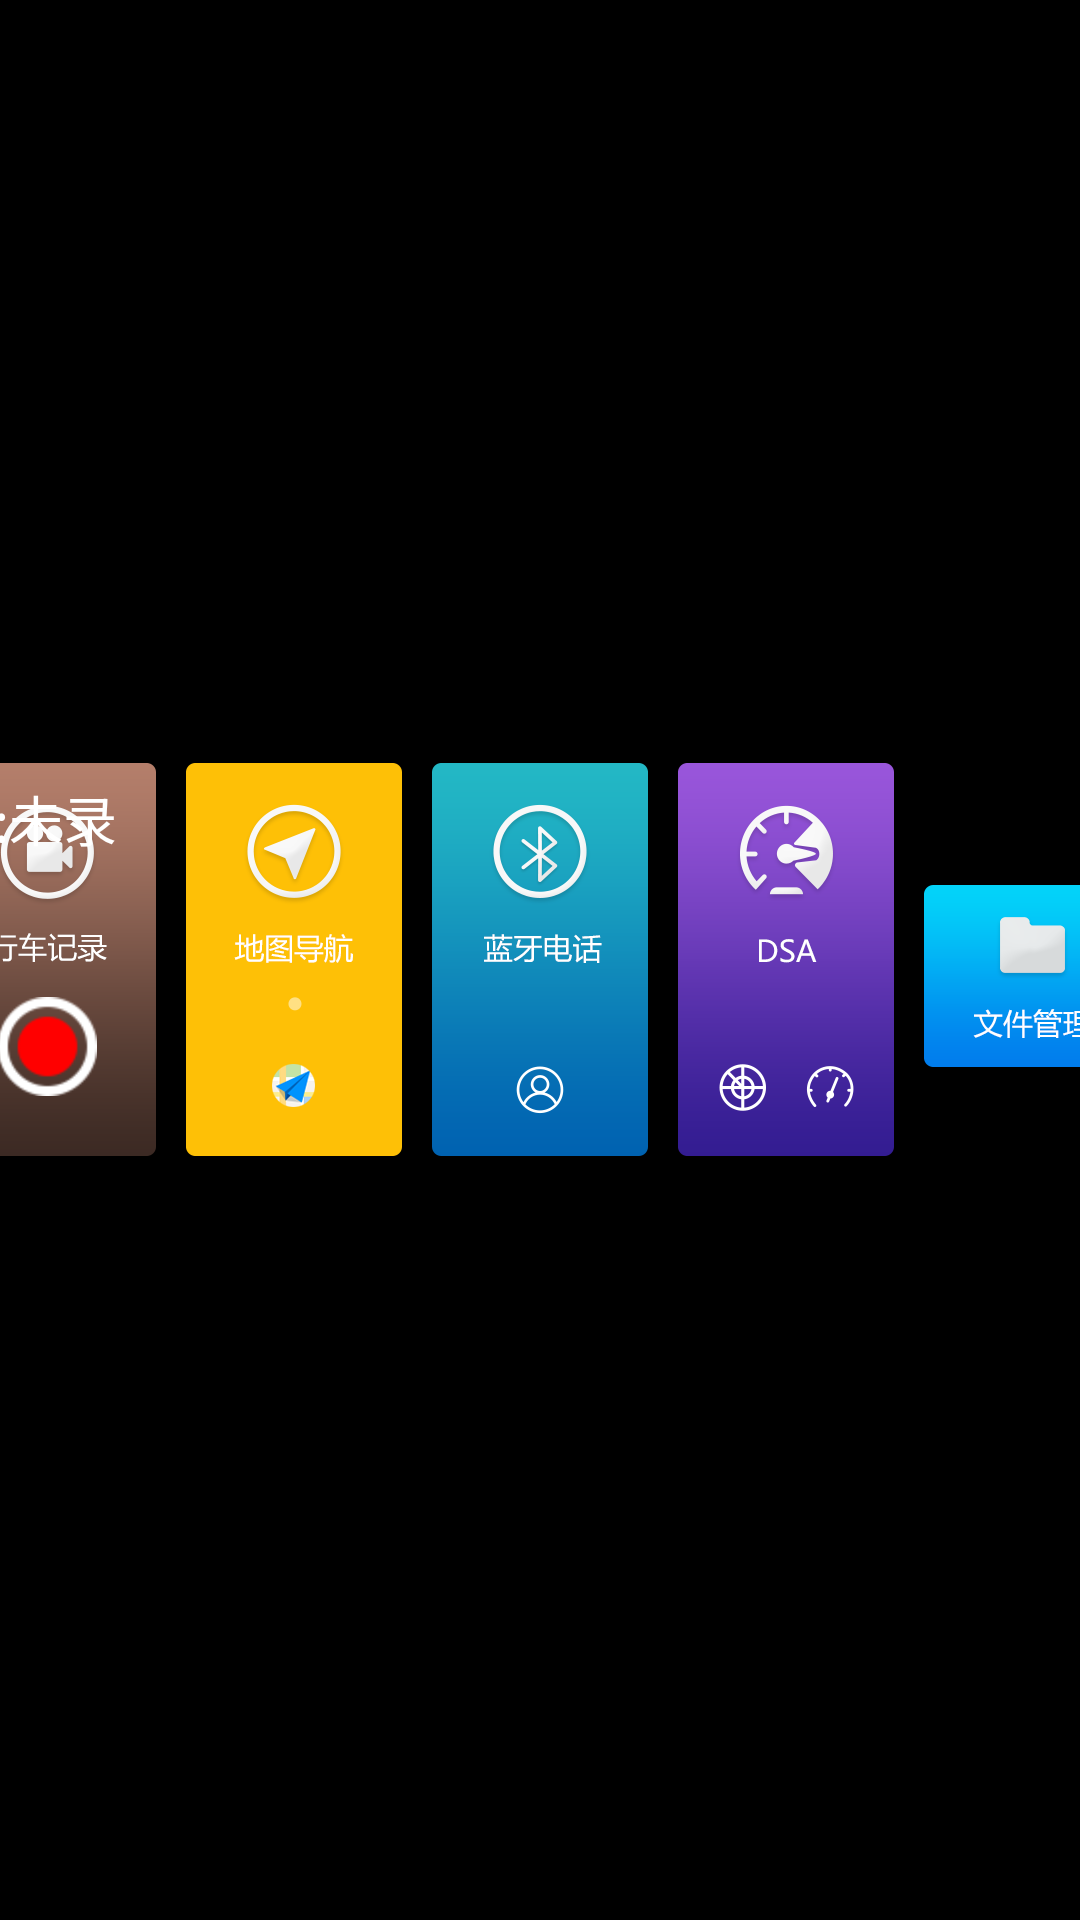

Where to tap for icons on this 1080x1920 app screen, as [x,y]:
record start sl: [48,1046]
